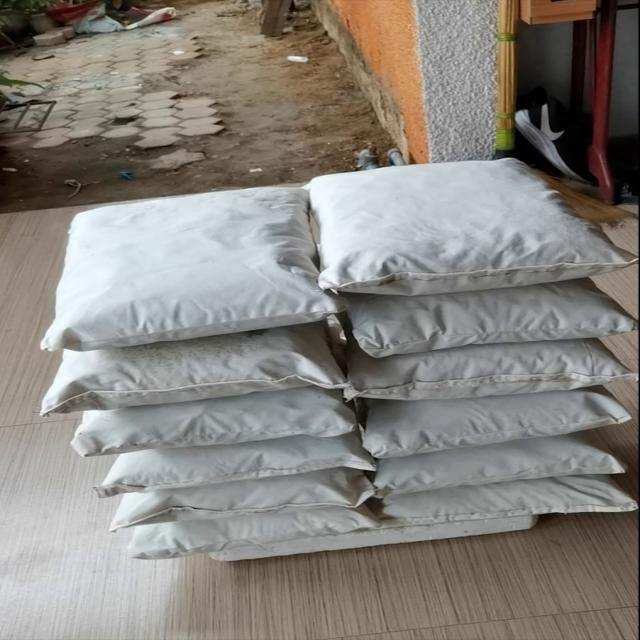Sack: (29, 172, 319, 356), (307, 149, 633, 287), (41, 319, 356, 408), (321, 280, 633, 365), (80, 421, 378, 501), (346, 332, 634, 411), (362, 399, 631, 467), (68, 385, 360, 445), (121, 497, 388, 561), (107, 471, 384, 526), (344, 450, 632, 502), (360, 477, 633, 525)
